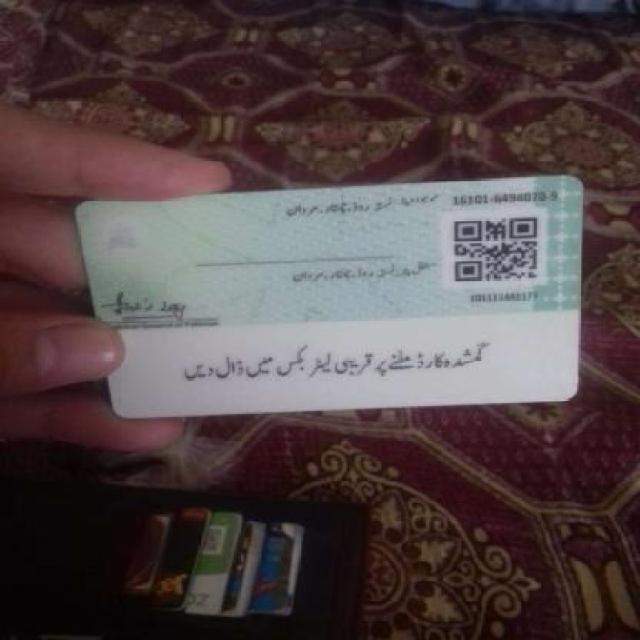Back: (58, 172, 590, 417)
